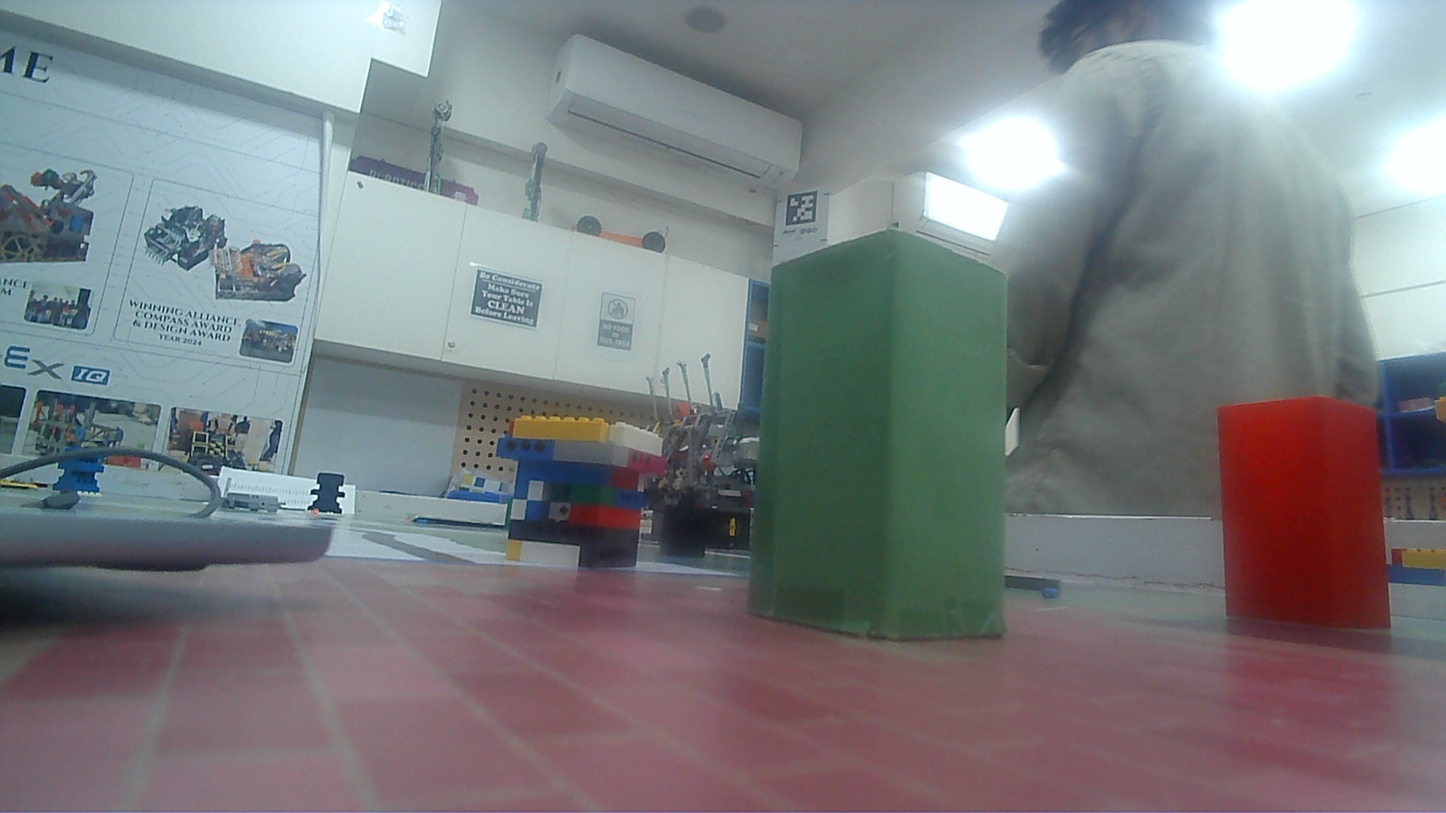green: (747, 230, 1008, 636)
